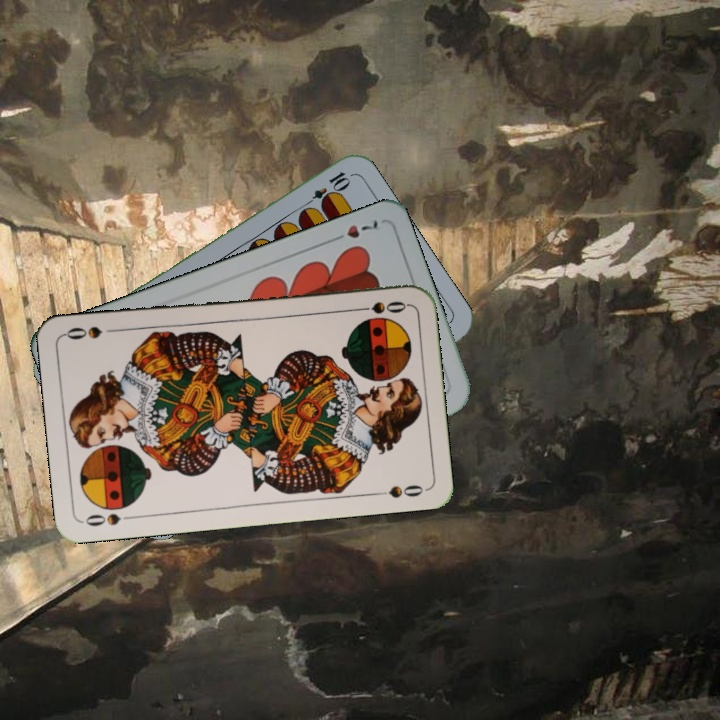E10: (299, 167, 352, 211)
H7: (326, 216, 381, 245)
SO: (81, 509, 139, 529), (350, 297, 410, 316)
